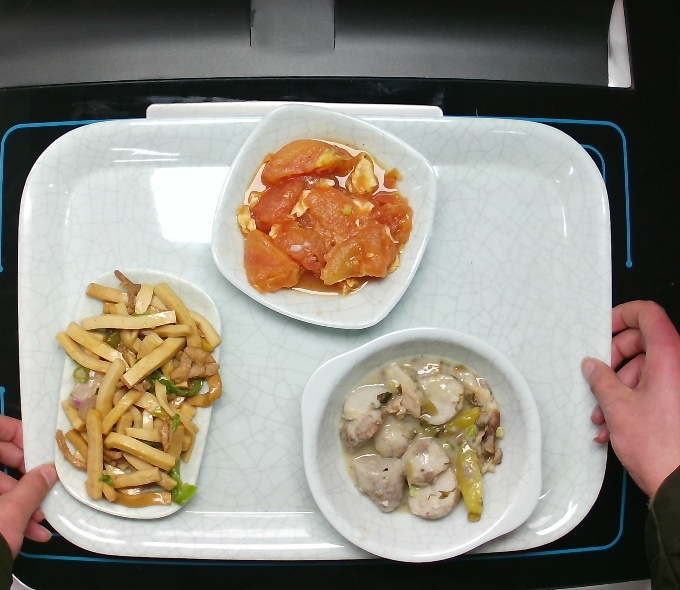wcq-FanQieChaoDan: (228, 126, 416, 307)
wcq-QianYeDouFu: (41, 256, 225, 520)
wcq-YangYu: (333, 348, 510, 531)
